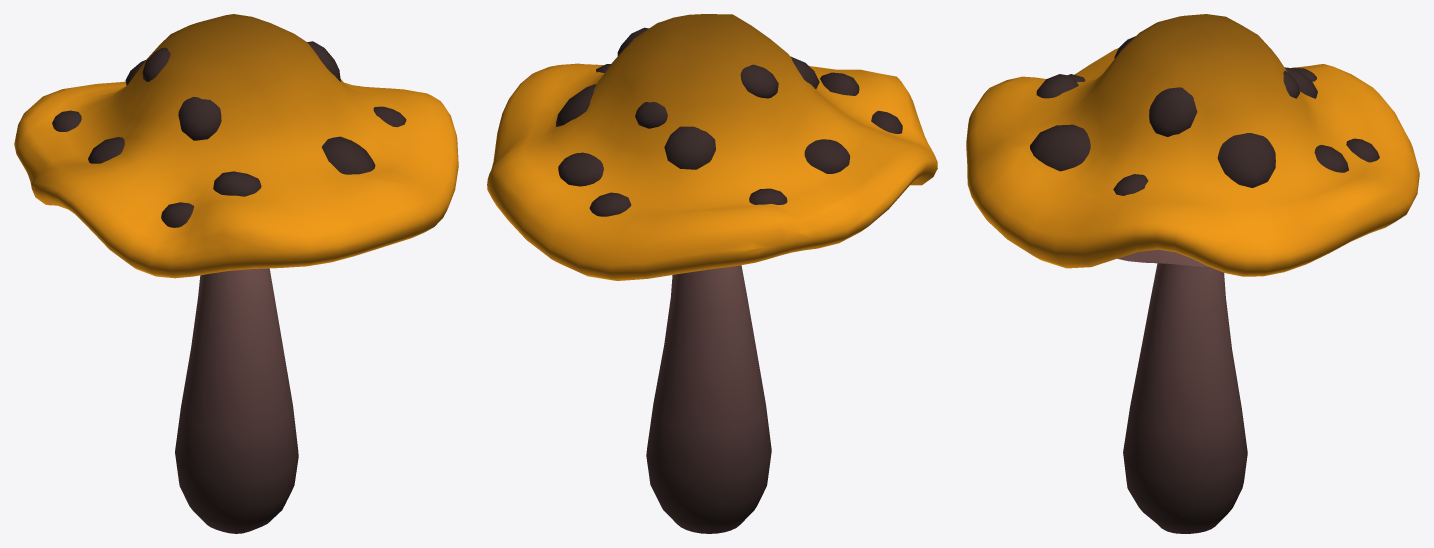
The model's file is Mushroom_0001_0015.fbx.
3 renders of one model, left to right at view 1: azimuth 30°, elevation 25°; view 2: azimuth 150°, elevation 25°; view 3: azimuth 270°, elevation 25°, orthographic.
Parts seen in each view (by area): view 1: Mushroom_0001_0015; view 2: Mushroom_0001_0015; view 3: Mushroom_0001_0015.
Boxes of the visible parts, x1,y1,x2,y2 form: Mushroom_0001_0015: (14,14,458,533); Mushroom_0001_0015: (487,14,937,533); Mushroom_0001_0015: (966,14,1419,533).
Size of the model in its own units: 0.2726 by 0.3307 by 0.2741.
Materials: 1 (1 with a texture image).
